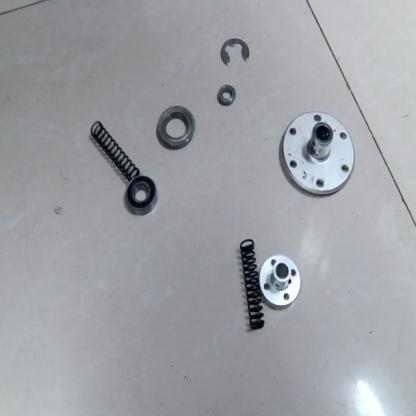FOD: (2, 7, 416, 412), (280, 106, 358, 197), (89, 116, 141, 182), (237, 232, 265, 335), (257, 251, 305, 311), (156, 104, 196, 154), (124, 174, 160, 219), (217, 36, 253, 70), (214, 83, 240, 106)
